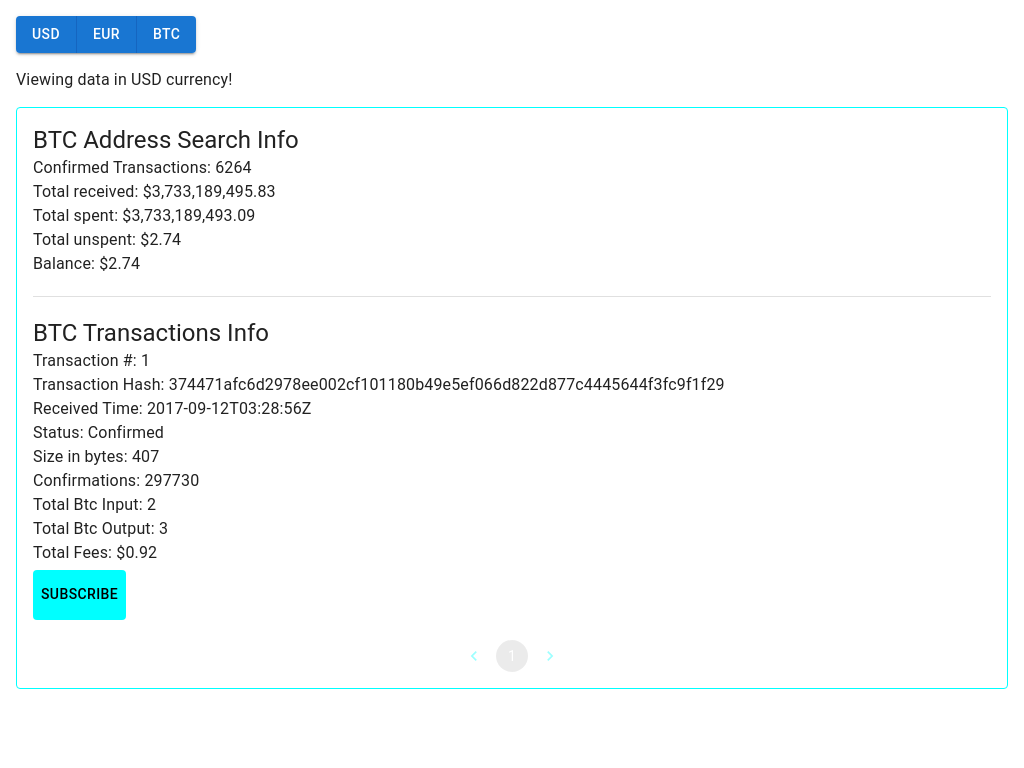
Test: BtcAddressInfo › should click the EUR Button
Click the button "EUR" at (107, 34), box [77,16,137,52]
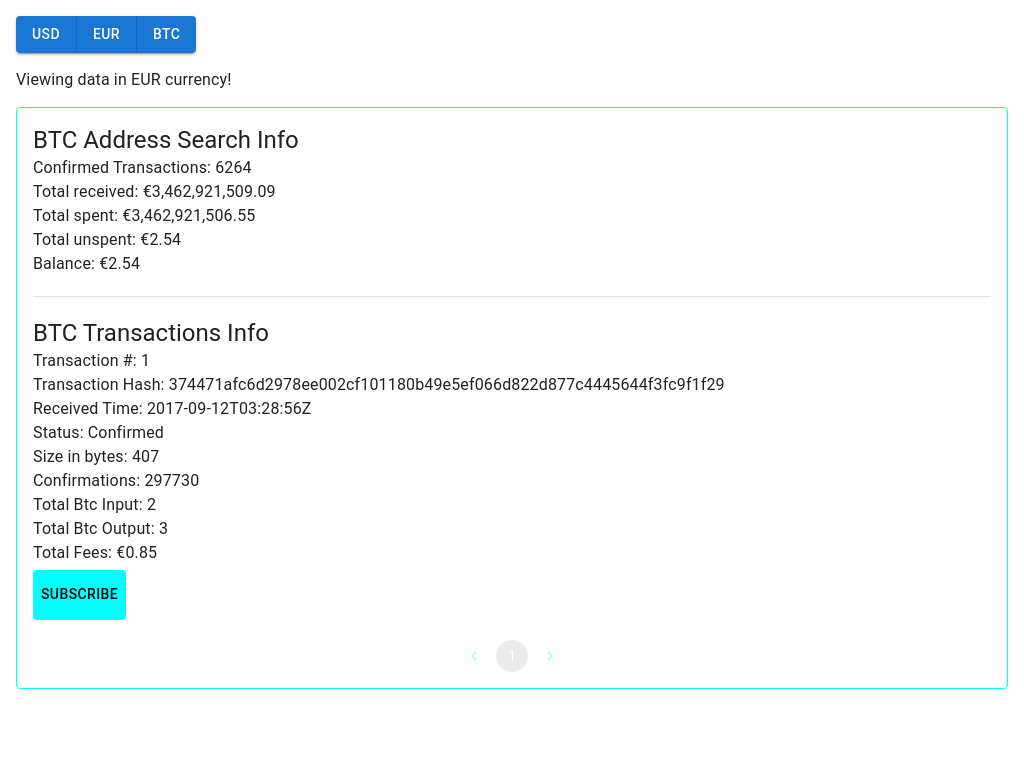
Result: the text "Viewing data in EUR currency!" is shown at [16,70,232,88]
